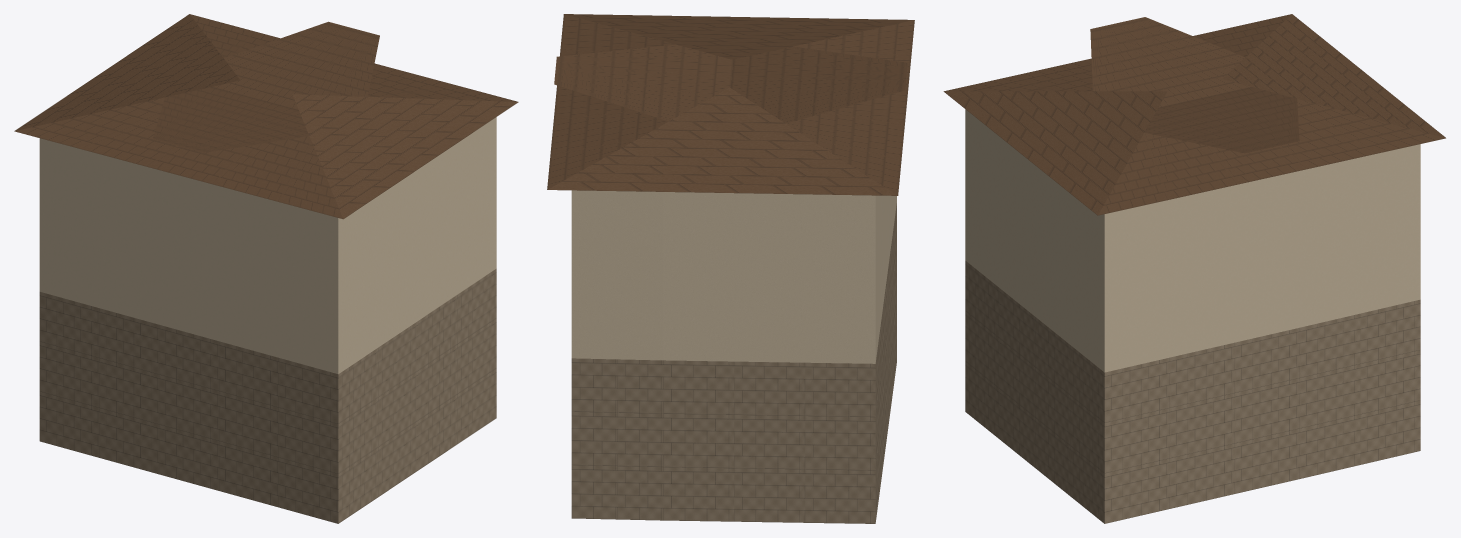
Rendered from bld_c39_47_194.gltf.
3 renders of one model, left to right at view 1: azimuth 30°, elevation 25°; view 2: azimuth 150°, elevation 25°; view 3: azimuth 270°, elevation 25°, orthographic. The views are drawn at different scales.
Visible parts, largest first — view 1: bld_c39_47_194; view 2: bld_c39_47_194; view 3: bld_c39_47_194.
Boxes of the visible parts, <box> form: bld_c39_47_194: <box>14,14,518,523</box>; bld_c39_47_194: <box>547,14,914,523</box>; bld_c39_47_194: <box>943,14,1445,523</box>.
Size of the model in its own units: 14.57 by 11.7 by 15.37.
3 materials, 3 textured.
